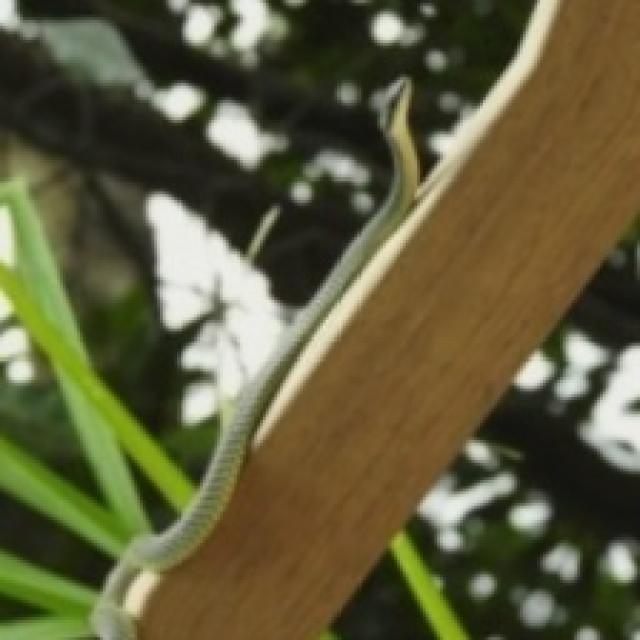paradise tree snake: (97, 0, 637, 637), (94, 77, 417, 637)
